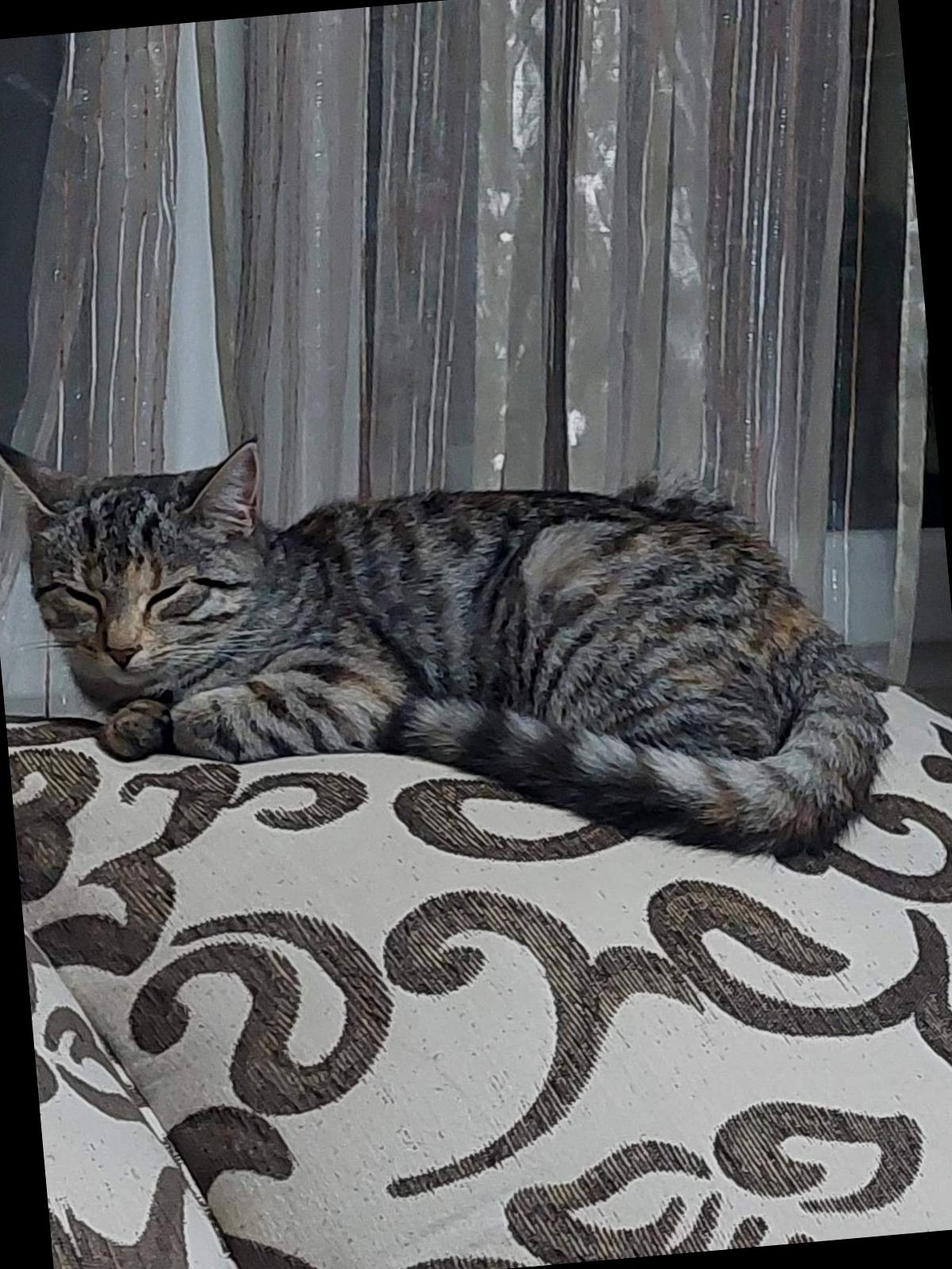macka: (0, 364, 893, 926)
